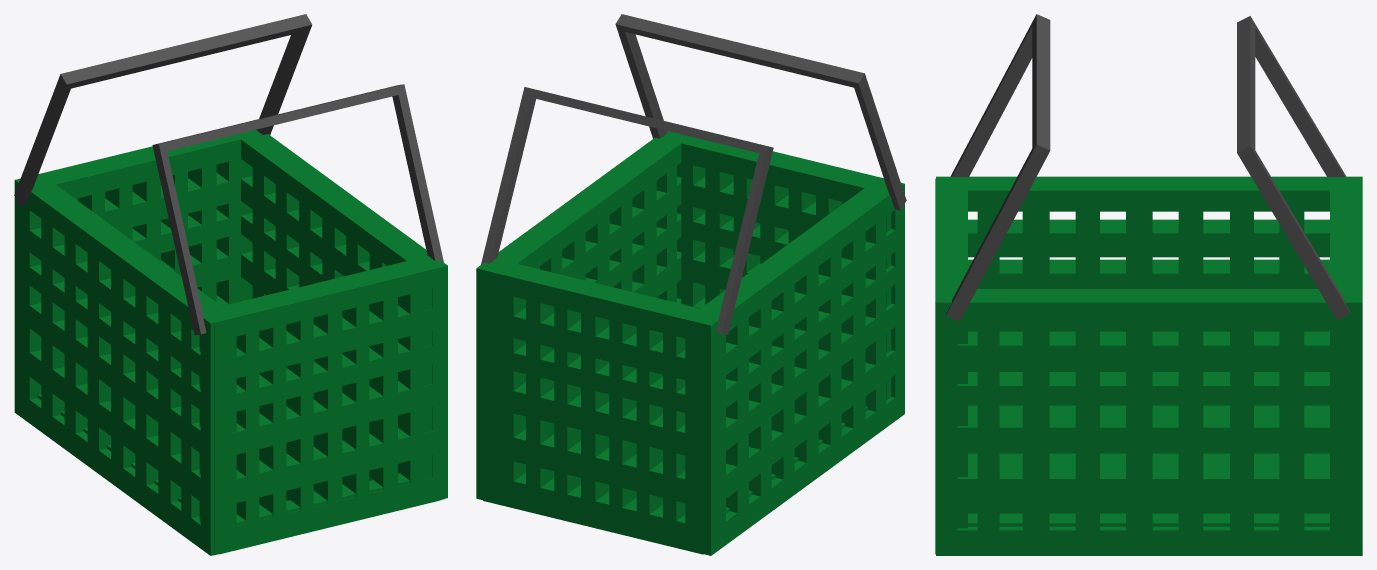
Rendered from basket.fbx.
The picture shows the model from 3 angles, left to right: view 1: azimuth 30°, elevation 25°; view 2: azimuth 150°, elevation 25°; view 3: azimuth 270°, elevation 25°; orthographic projection. The views are drawn at different scales.
Visible parts, largest first — view 1: pasted__Trolly_sides3, pasted__Trolly_sides1, pasted__Trolly_sides, pasted__Trolly_sides2, Handle1, Handle, Trolly_sides; view 2: pasted__Trolly_sides1, pasted__Trolly_sides2, pasted__Trolly_sides, pasted__Trolly_sides3, Handle, Handle1, Trolly_sides; view 3: pasted__Trolly_sides, pasted__Trolly_sides1, Handle1, Handle, Trolly_sides, pasted__Trolly_sides3, pasted__Trolly_sides2.
Part boxes in pixels (x1=…): pasted__Trolly_sides3: x1=199, y1=256, x2=444, y2=555; pasted__Trolly_sides1: x1=14, y1=178, x2=236, y2=555; pasted__Trolly_sides: x1=235, y1=130, x2=447, y2=498; pasted__Trolly_sides2: x1=33, y1=130, x2=261, y2=398; Handle1: x1=14, y1=14, x2=312, y2=205; Handle: x1=152, y1=84, x2=443, y2=335; Trolly_sides: x1=37, y1=394, x2=440, y2=554; pasted__Trolly_sides1: x1=685, y1=177, x2=904, y2=555; pasted__Trolly_sides2: x1=479, y1=262, x2=719, y2=552; pasted__Trolly_sides: x1=476, y1=131, x2=689, y2=503; pasted__Trolly_sides3: x1=662, y1=133, x2=891, y2=400; Handle: x1=615, y1=14, x2=906, y2=210; Handle1: x1=481, y1=87, x2=773, y2=335; Trolly_sides: x1=483, y1=406, x2=867, y2=554; pasted__Trolly_sides: x1=936, y1=289, x2=1362, y2=555; pasted__Trolly_sides1: x1=936, y1=176, x2=1362, y2=371; Handle1: x1=1237, y1=16, x2=1350, y2=319; Handle: x1=945, y1=14, x2=1050, y2=321; Trolly_sides: x1=968, y1=405, x2=1329, y2=526; pasted__Trolly_sides3: x1=935, y1=178, x2=967, y2=554; pasted__Trolly_sides2: x1=1330, y1=178, x2=1362, y2=288.
Bounding box in the file's own units: 9.43 × 13.94 × 13.05.
